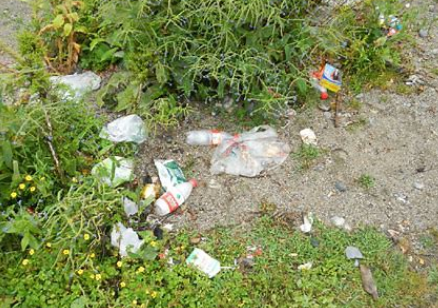garbage: (183, 125, 288, 177), (297, 57, 370, 104), (142, 153, 193, 215), (339, 243, 390, 299), (46, 72, 108, 111), (81, 153, 138, 193), (86, 114, 148, 150), (97, 224, 148, 259), (288, 127, 326, 160), (188, 246, 225, 277), (371, 12, 406, 43), (234, 238, 266, 268), (295, 208, 317, 237), (332, 214, 361, 236)
